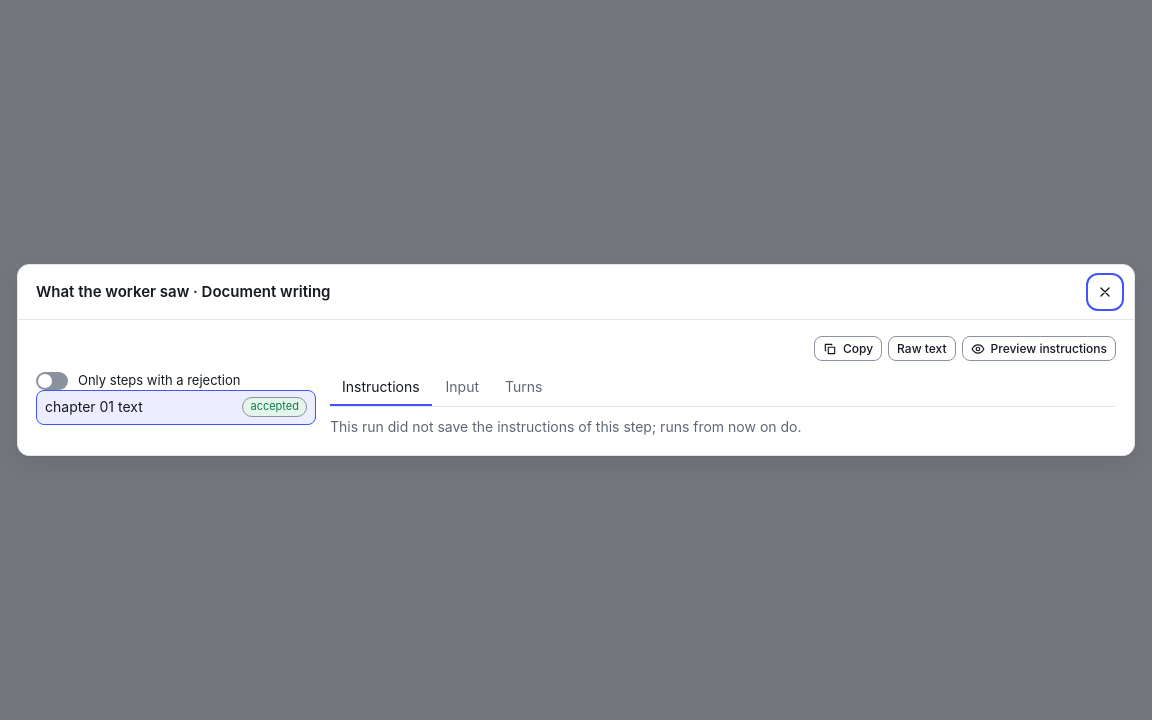
Test case: WorkerView › shows a conversation's follow-up with its request and its turns in order
Expected: the text "This run did not save the instructions" is shown, [330, 418, 802, 435]
Click the tab "Input" at (462, 389), box [434, 371, 491, 406]
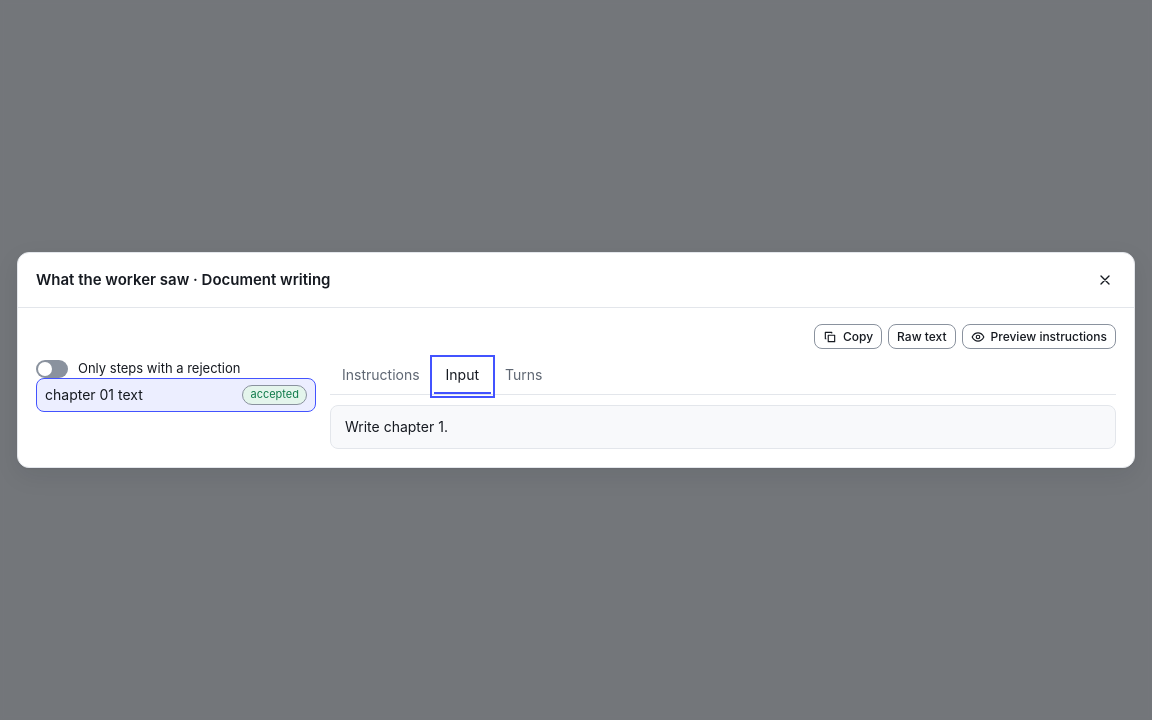
Expected: the text "Write chapter 1." is shown, [345, 418, 448, 435]
Click the tab "Turns" at (524, 376), box [493, 359, 554, 394]
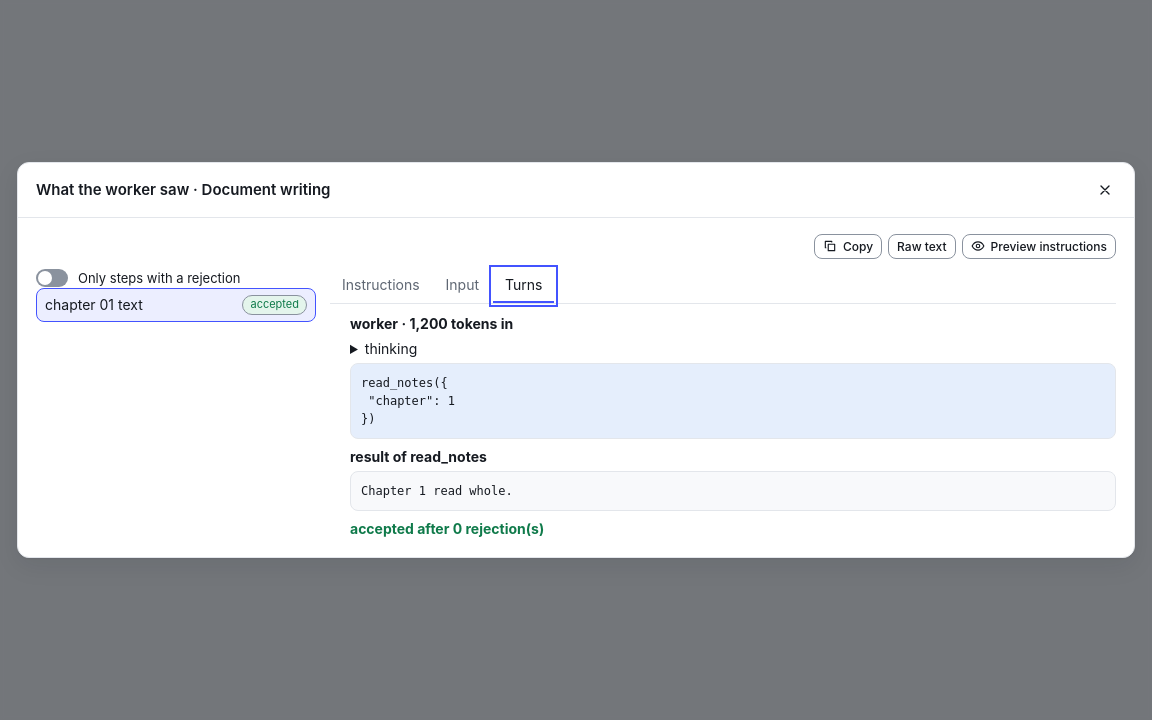
Expected: the text "worker · 1,200 tokens in" is shown, [350, 315, 513, 332]
Expected: the text "read_notes({ \"chapter\": 1 })" is shown, [350, 363, 1116, 439]
Expected: the text "Chapter 1 read whole." is shown, [350, 471, 1116, 511]
